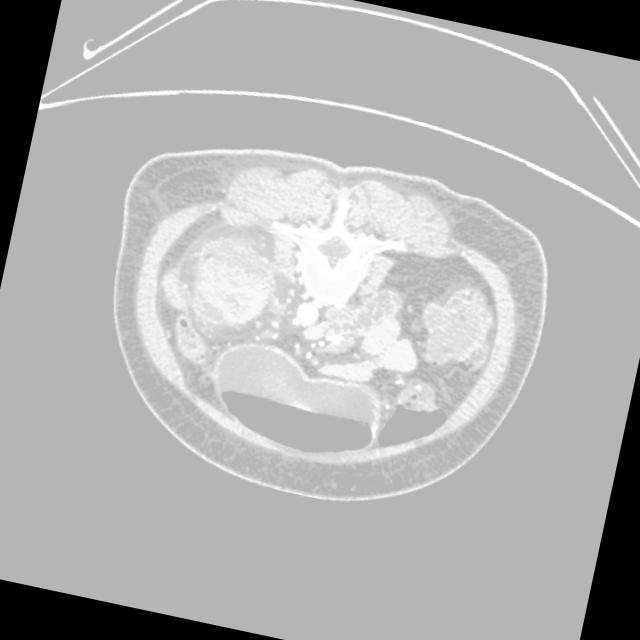TUMOR: (85, 182, 541, 476)
